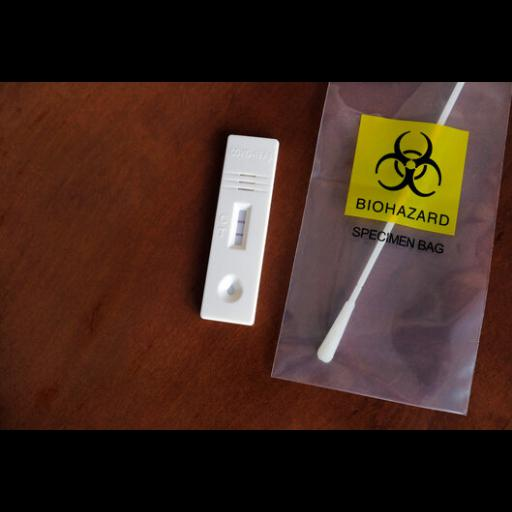Pos: (200, 134, 278, 326)
